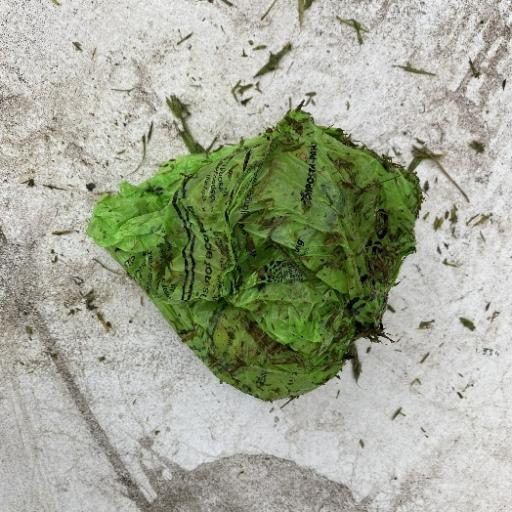Waste: (85, 96, 425, 404)
